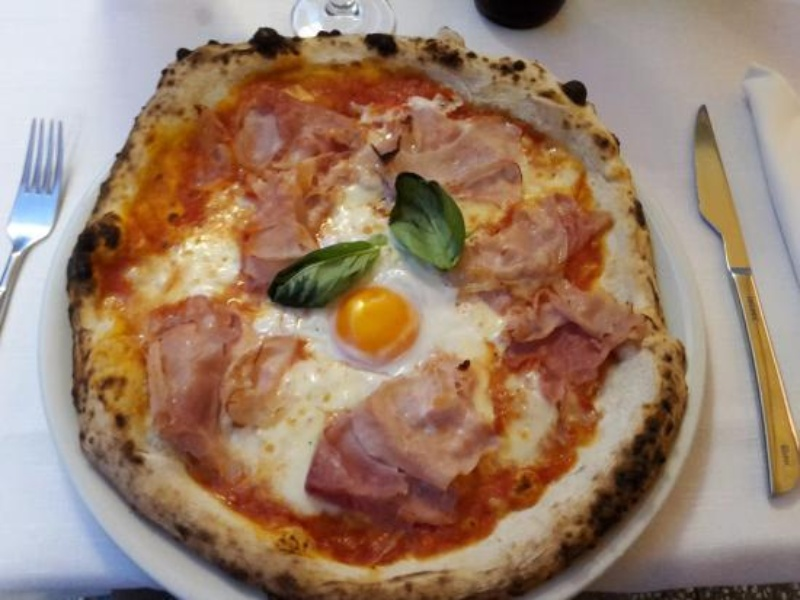oeuf: (326, 281, 447, 370)
